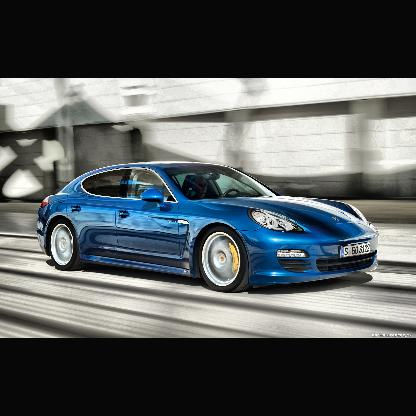Porsche Panamera Sedan 2012: (37, 161, 381, 293)
